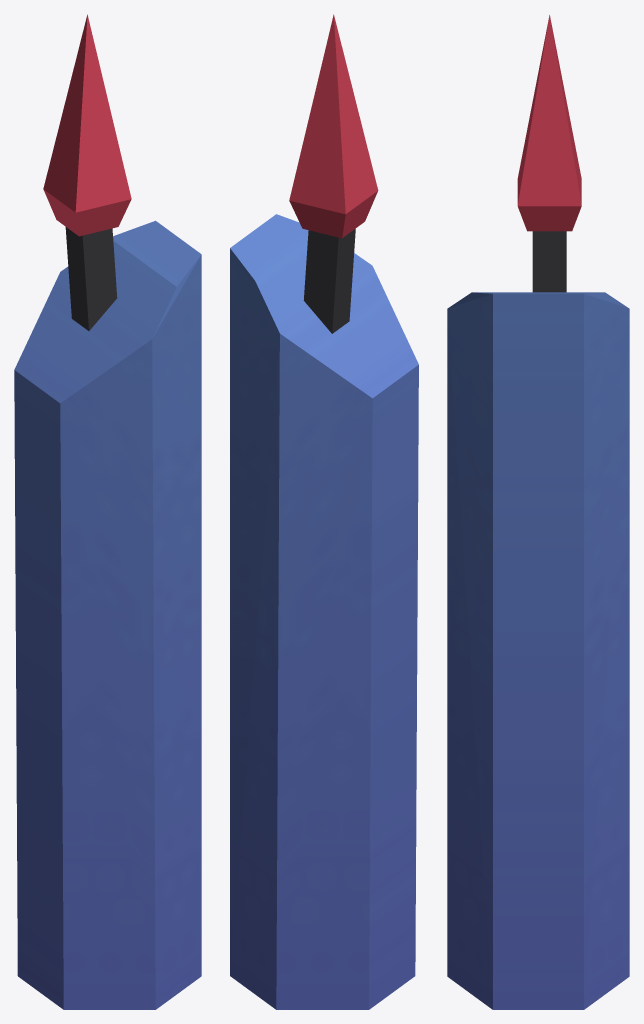
Rendered from candle.fbx.
3 renders of one model, left to right at view 1: azimuth 30°, elevation 25°; view 2: azimuth 150°, elevation 25°; view 3: azimuth 270°, elevation 25°, orthographic.
Visible parts, largest first — view 1: candle; view 2: candle; view 3: candle.
Boxes of the visible parts, <box> form: candle: <box>14,14,201,1009</box>; candle: <box>230,14,418,1009</box>; candle: <box>447,15,629,1009</box>.
Size of the model in its own units: 0.032 by 0.036 by 0.2079.
